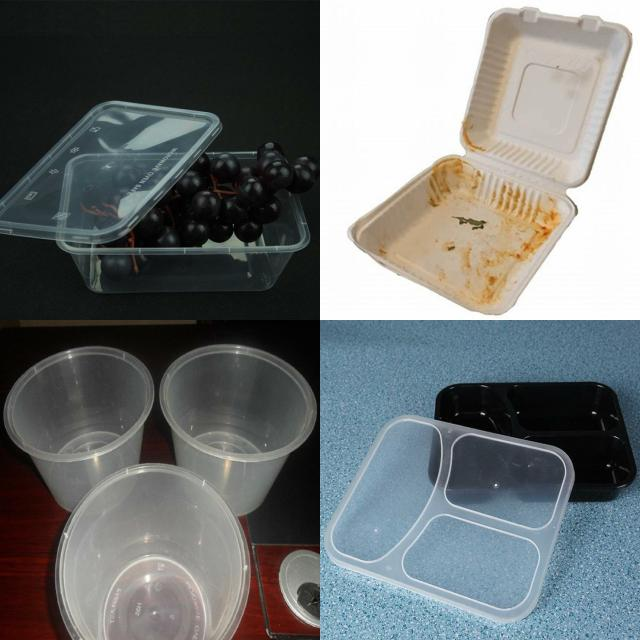Single-Use-Plastic: (349, 8, 631, 314), (325, 416, 574, 622), (58, 141, 319, 293), (58, 464, 250, 639), (0, 102, 221, 243), (427, 373, 640, 509), (160, 345, 316, 515), (4, 346, 154, 511)
